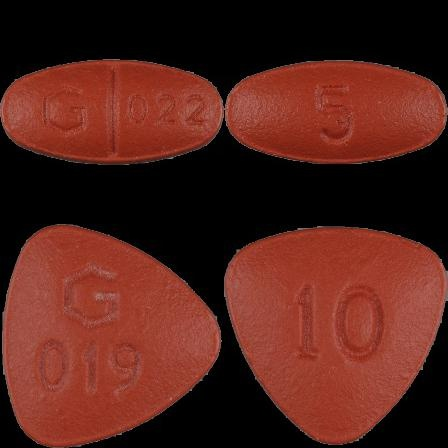68151-1020: (0, 0, 224, 224)
